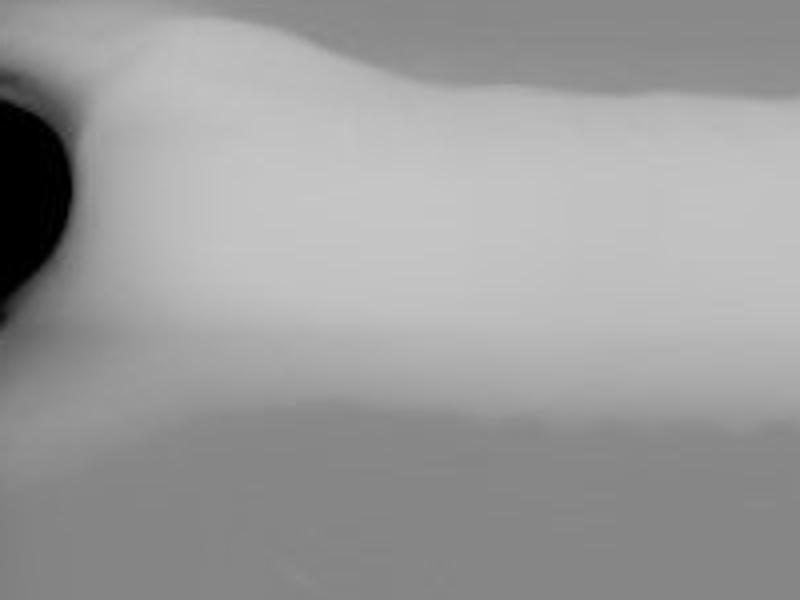defect: (1, 98, 73, 303)
